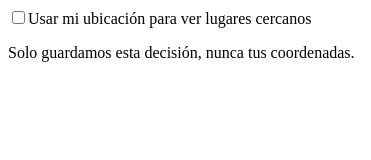
configuración de ubicación (FR-010/014) › informa si no se pudo guardar sin cambiar el estado mostrado
Click the checkbox labelled "Usar mi ubicación para ver lugares cercanos": (18,18) [12,11,25,24]
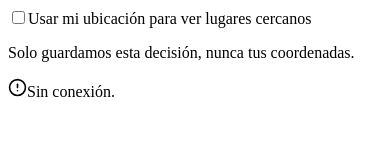
Expected: the text "Sin conexión." is shown, [27,83,115,100]
